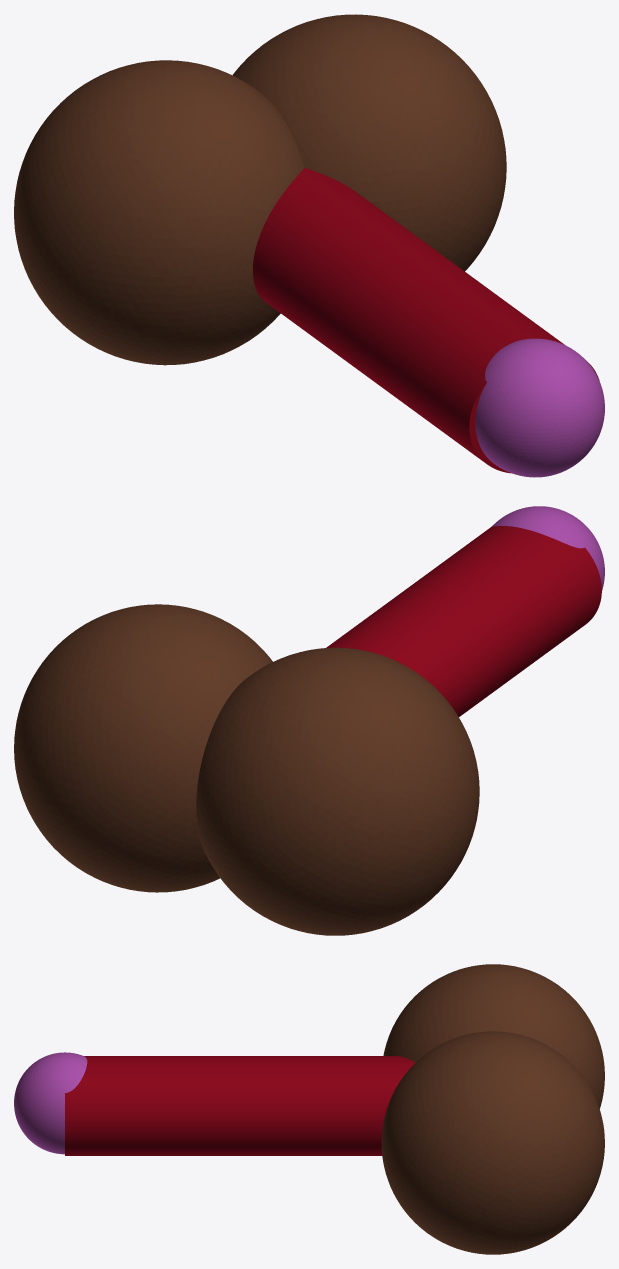
Rendered from Stoel.obj.
The picture shows the model from 3 angles, top to bottom: view 1: azimuth 30°, elevation 25°; view 2: azimuth 150°, elevation 25°; view 3: azimuth 270°, elevation 25°; orthographic projection. The views are drawn at different scales.
Visible parts, largest first — view 1: Object.1, Object.2, Object.3, Object.4; view 2: Object.1, Object.2, Object.3, Object.4; view 3: Object.2, Object.3, Object.1, Object.4.
Part boxes in pixels (<box>): Object.1: <box>14,60,304,365</box>; Object.2: <box>232,14,506,271</box>; Object.3: <box>253,168,599,473</box>; Object.4: <box>475,338,604,477</box>; Object.1: <box>196,647,479,935</box>; Object.2: <box>14,604,272,892</box>; Object.3: <box>326,526,601,716</box>; Object.4: <box>491,506,604,590</box>; Object.2: <box>381,1031,604,1254</box>; Object.3: <box>65,1056,415,1155</box>; Object.1: <box>383,964,604,1108</box>; Object.4: <box>14,1052,87,1154</box>.
Size of the model in its own units: 68.44 by 40 by 106.
